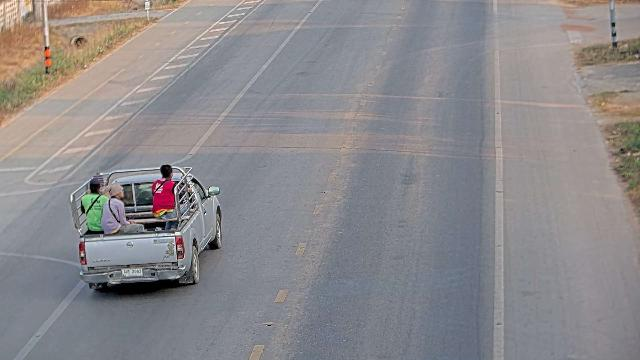pickup-truck: (69, 164, 223, 291)
